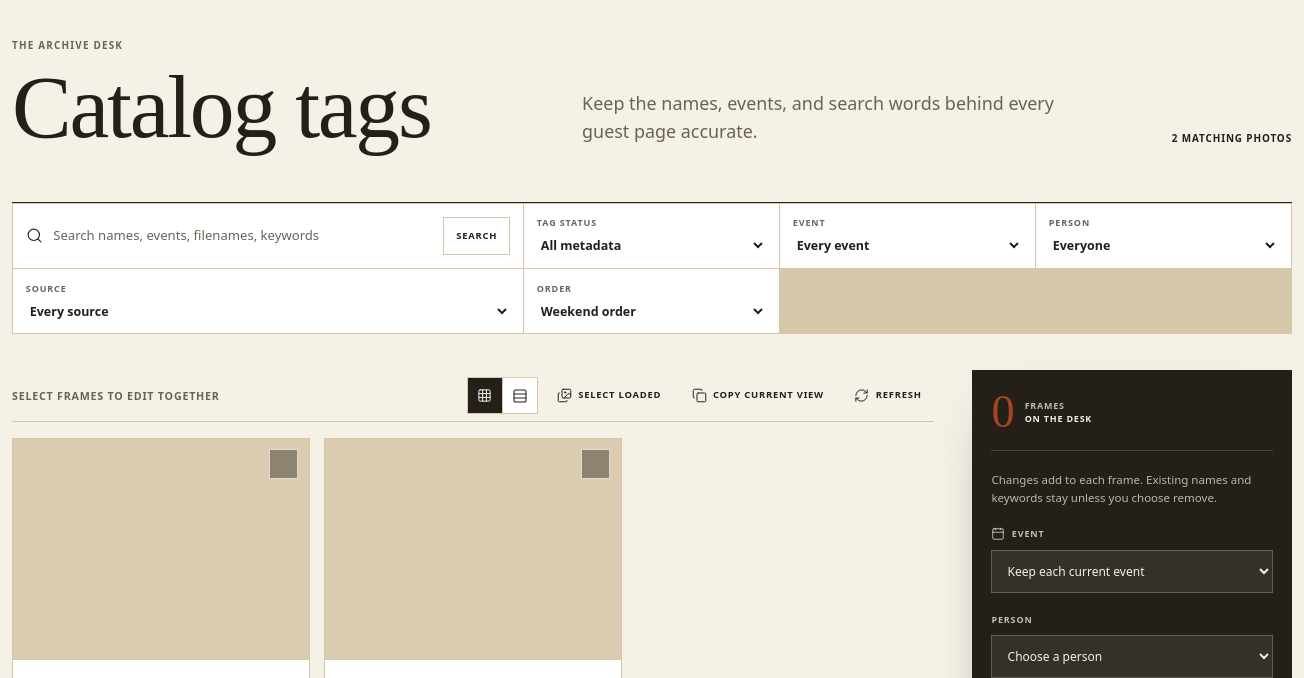
Scenario: CatalogTagger › switches to a dense table without changing bounded selection behavior
The image size is (1304, 678).
Click the button named "Table view".
click(520, 396)  # box left=503, top=378, right=538, bottom=413
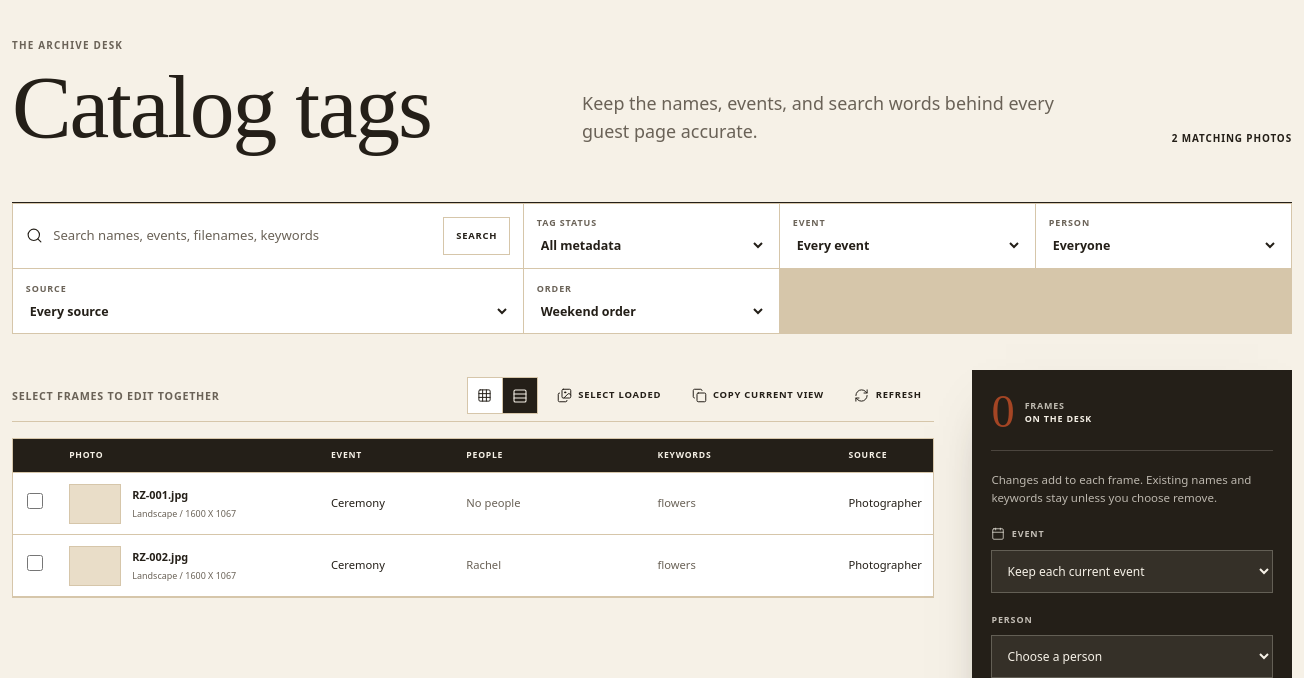
Result: the table is shown at left=13, top=439, right=934, bottom=597
Click the checkbox named "Select Ceremony".
click(35, 501)  # box left=27, top=493, right=43, bottom=509
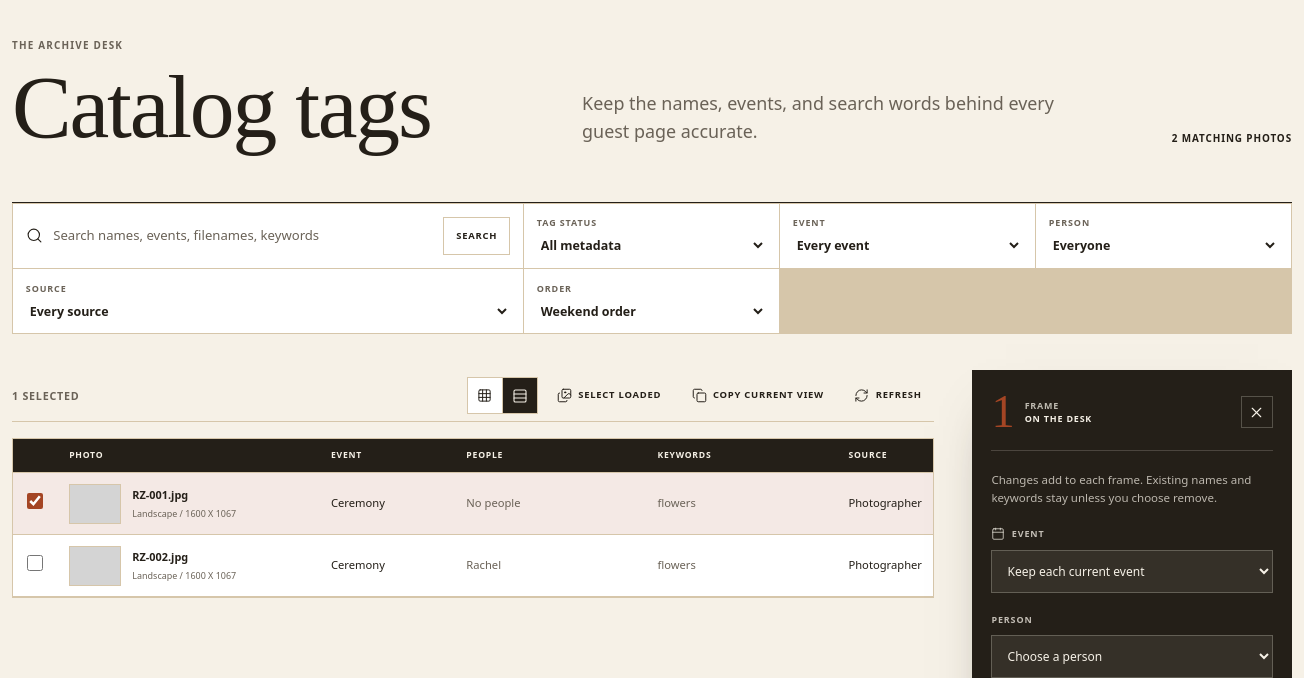
Result: the text "1 selected" is shown at left=12, top=388, right=79, bottom=404
